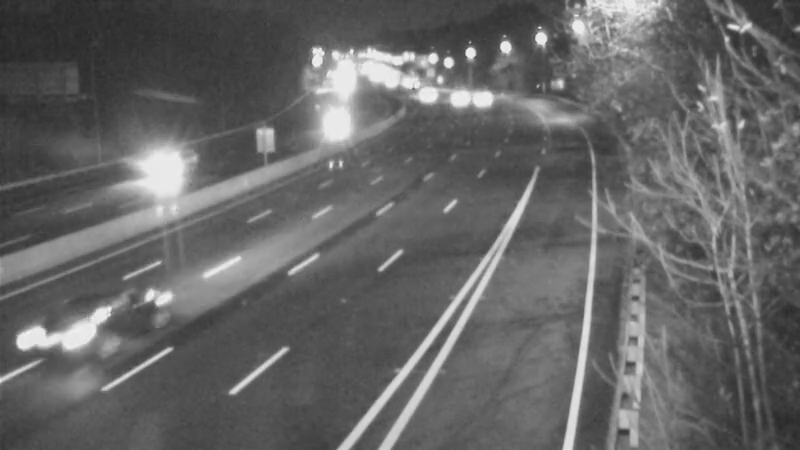vehicle: (10, 283, 120, 393), (109, 131, 189, 211), (405, 71, 455, 121), (434, 73, 484, 123), (451, 71, 501, 121), (311, 106, 361, 156)
